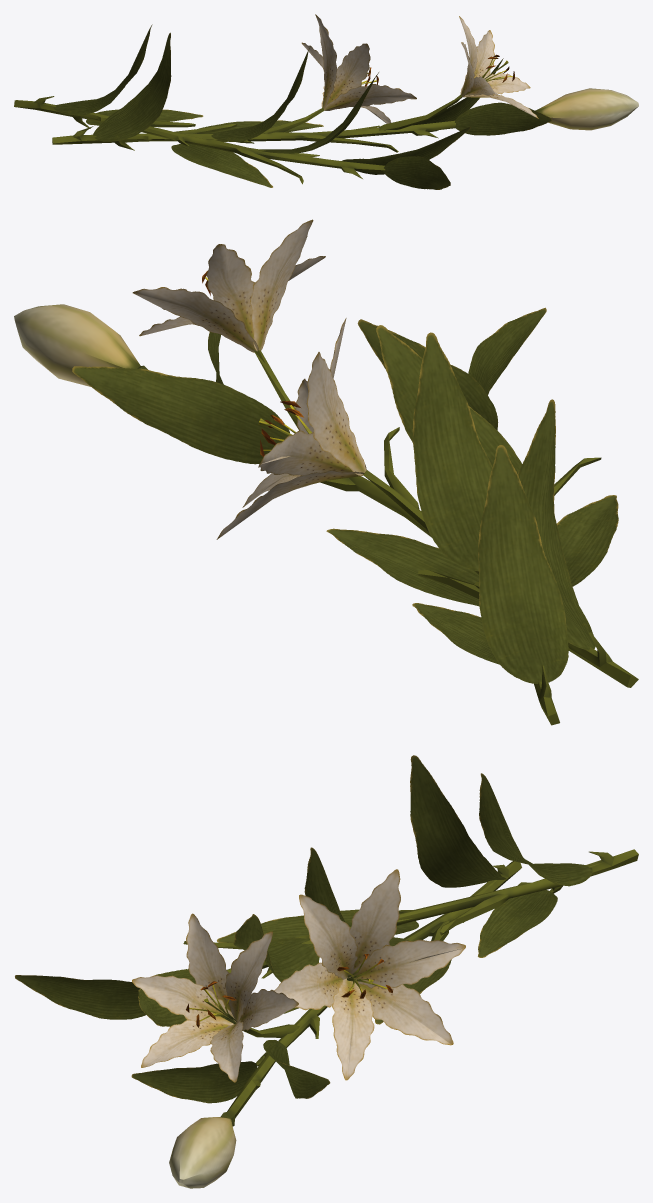
The model's file is lilies-bouquet.lod1.glb.
3 views of the same model, one above another, from view 1: azimuth 30°, elevation 25°; view 2: azimuth 150°, elevation 25°; view 3: azimuth 270°, elevation 25° (orthographic). The views are drawn at different scales.
Parts seen in each view (by area): view 1: lilies-bouquet; view 2: lilies-bouquet; view 3: lilies-bouquet.
Part boxes in pixels (x1=…): lilies-bouquet: x1=14, y1=14, x2=638, y2=189; lilies-bouquet: x1=14, y1=219, x2=638, y2=725; lilies-bouquet: x1=15, y1=755, x2=638, y2=1188.
Bounding box in the file's own units: 0.5833 × 0.1526 × 0.465.
1 material, 1 textured.
